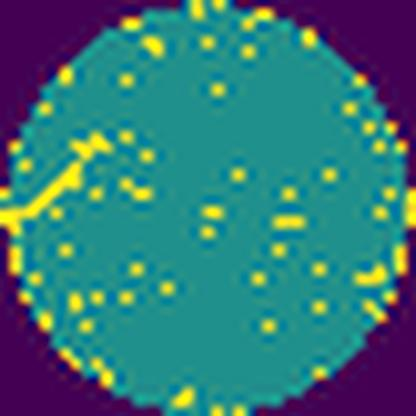Scratch: (5, 131, 118, 235)
